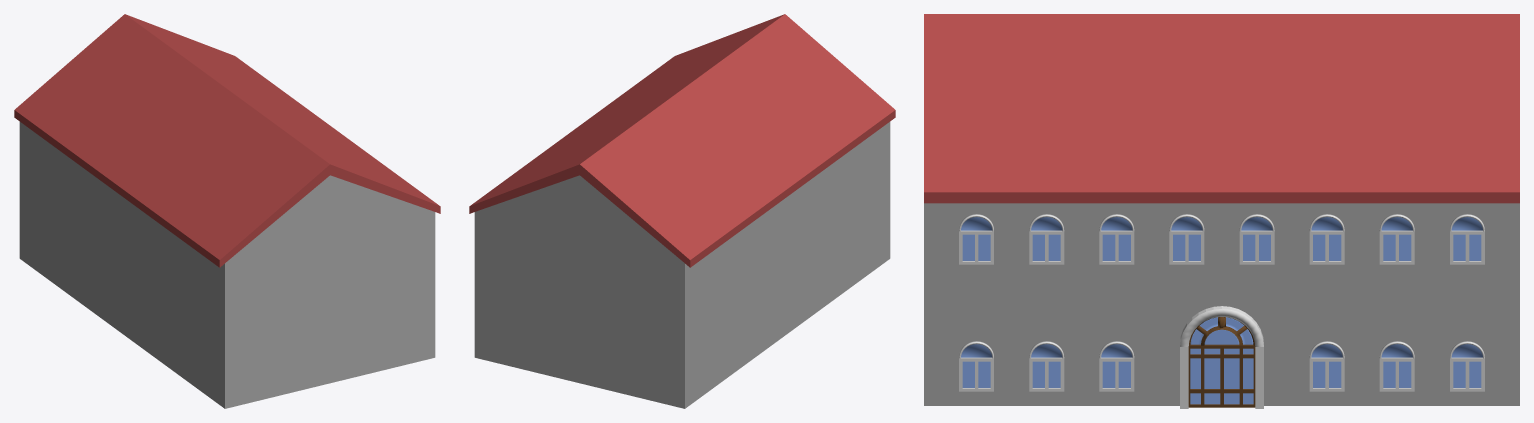
File: duvarson.fbx
3 views of the same model, side by side, from view 1: azimuth 30°, elevation 25°; view 2: azimuth 150°, elevation 25°; view 3: azimuth 270°, elevation 25° (orthographic). The views are drawn at different scales.
Visible parts, largest first — view 1: duvar; view 2: duvar; view 3: duvar.
Part boxes in pixels (<box>): duvar: <box>14,14,440,408</box>; duvar: <box>469,14,895,408</box>; duvar: <box>924,14,1519,408</box>.
Bounding box in the file's own units: 21100 × 20000 × 34000.
